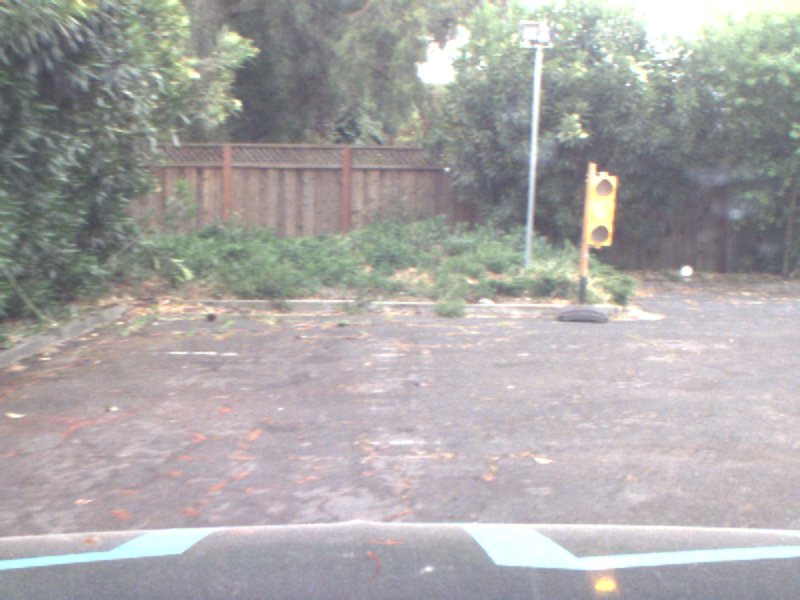Yellow: (585, 172, 613, 248)
